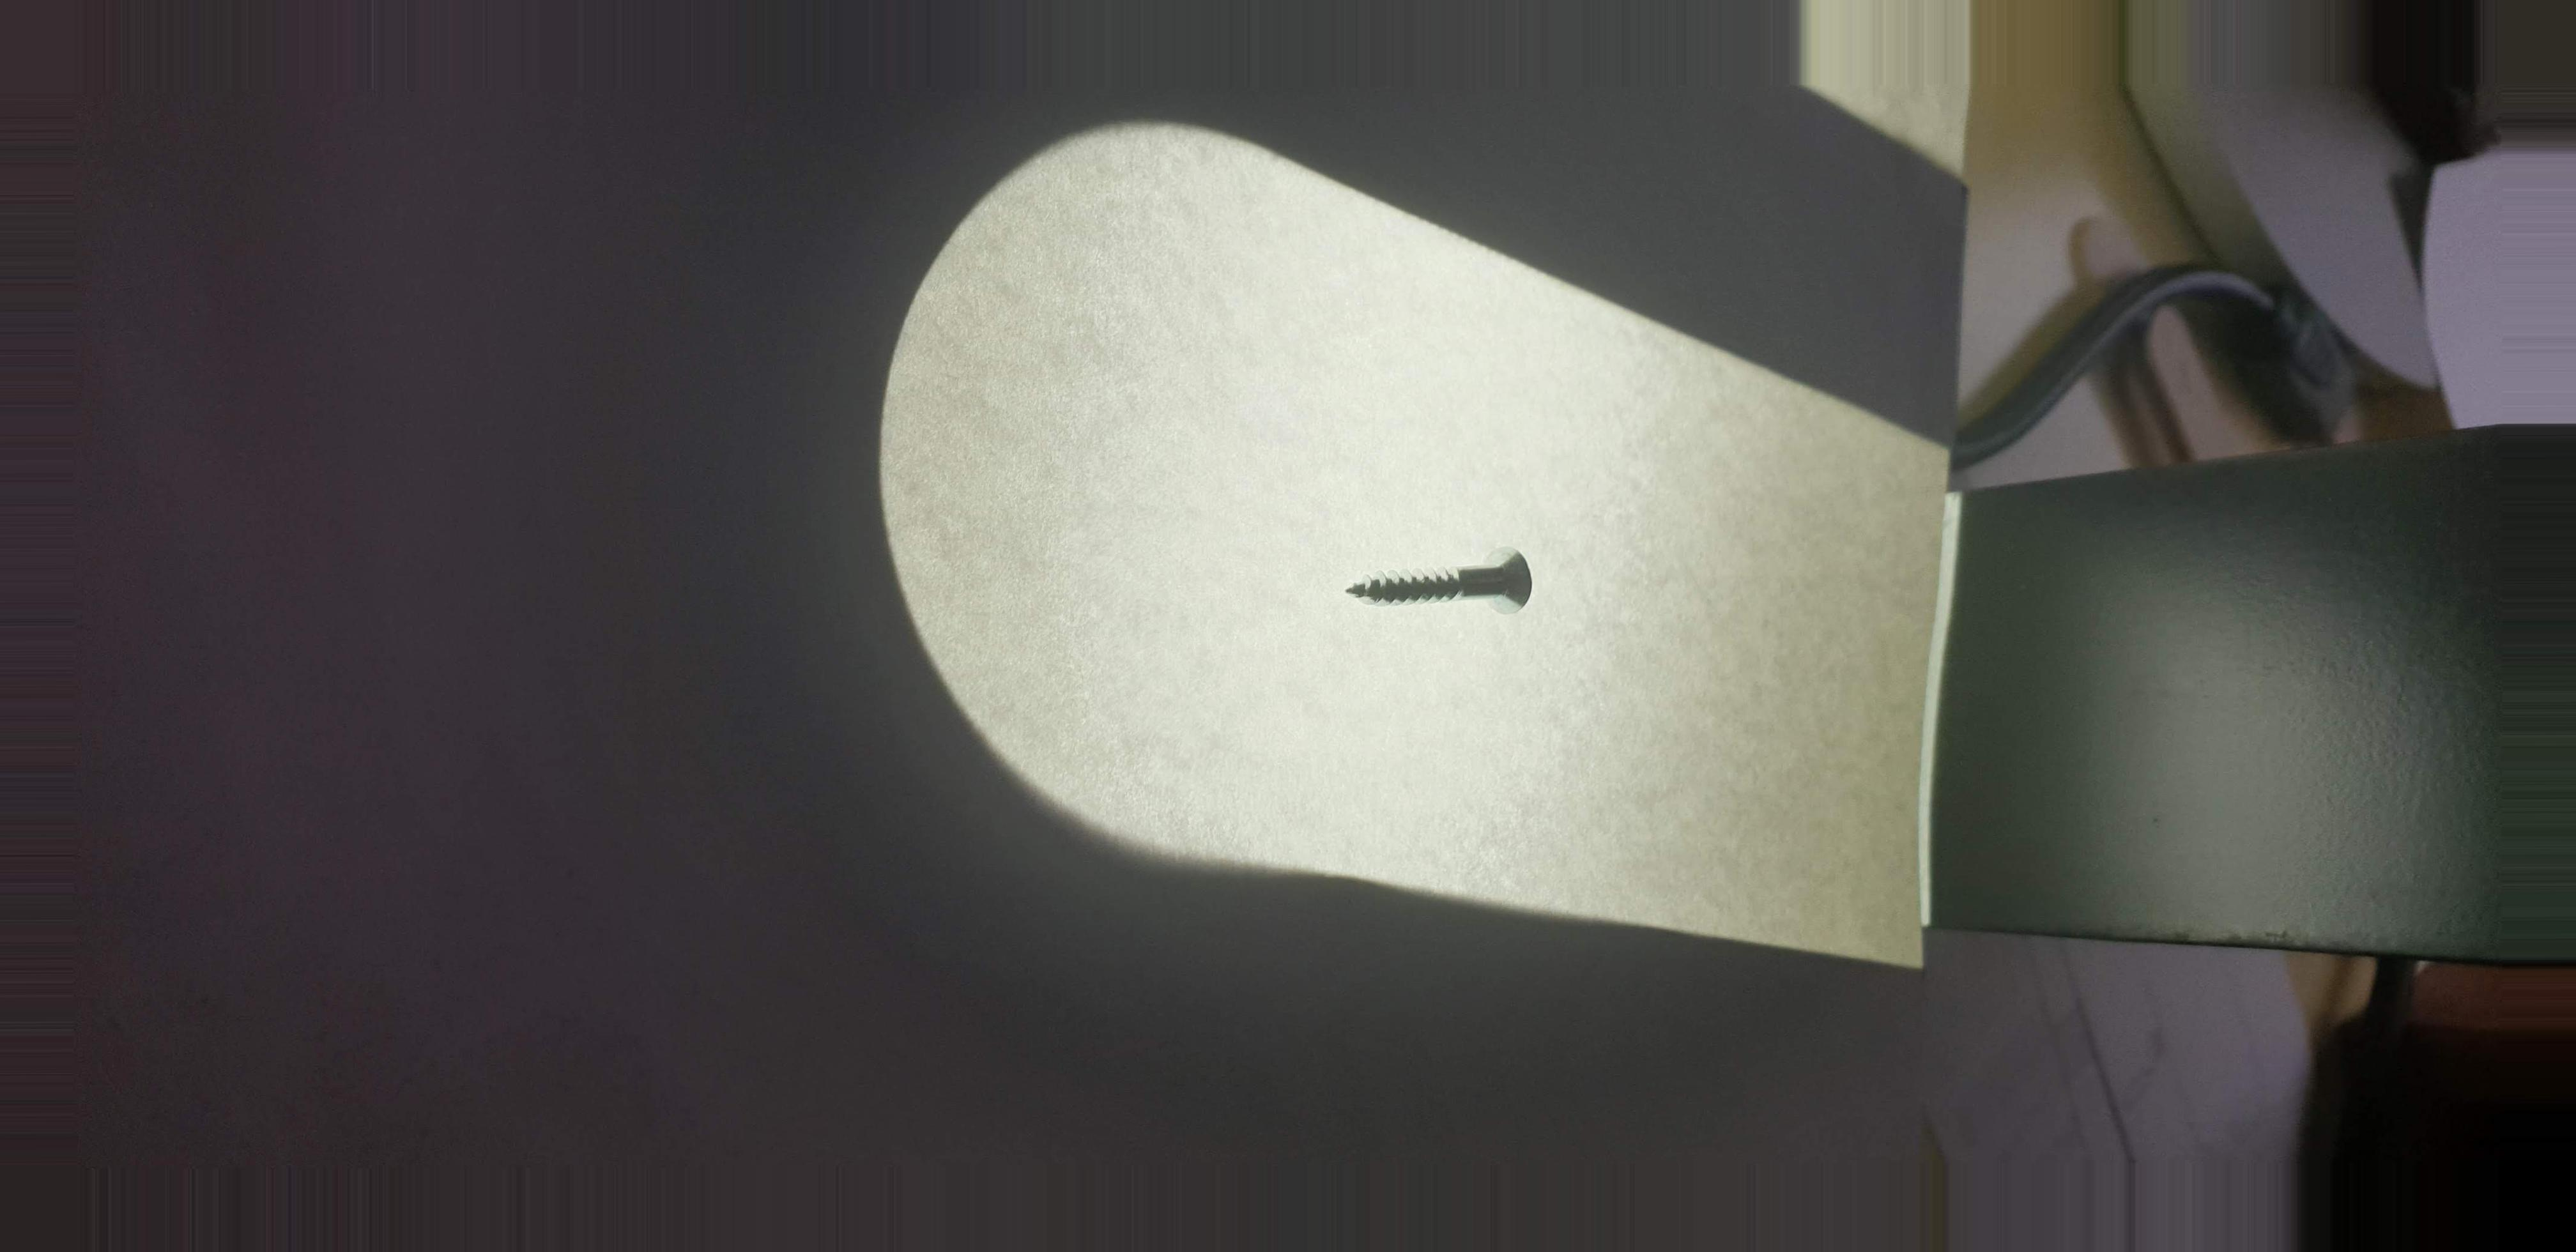S005: (1318, 539, 1572, 629)
